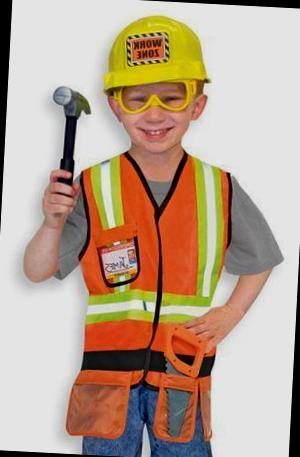helmet: (91, 10, 221, 102)
person: (27, 17, 272, 457)
